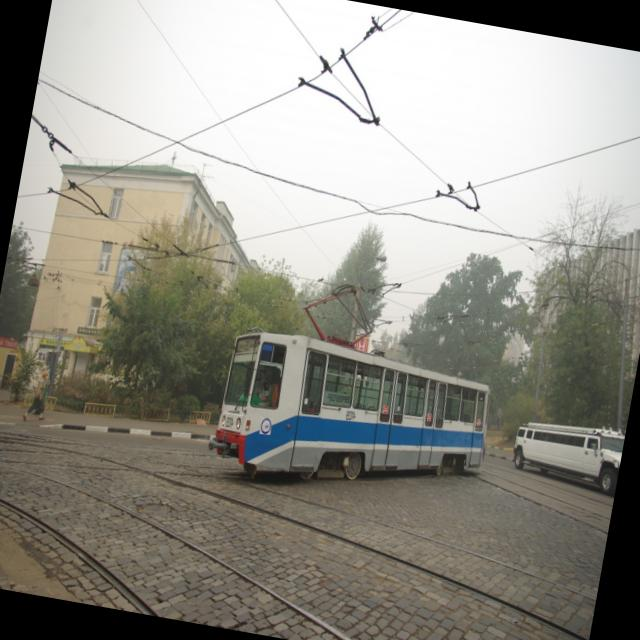bus: (207, 328, 501, 512), (508, 410, 626, 497)
